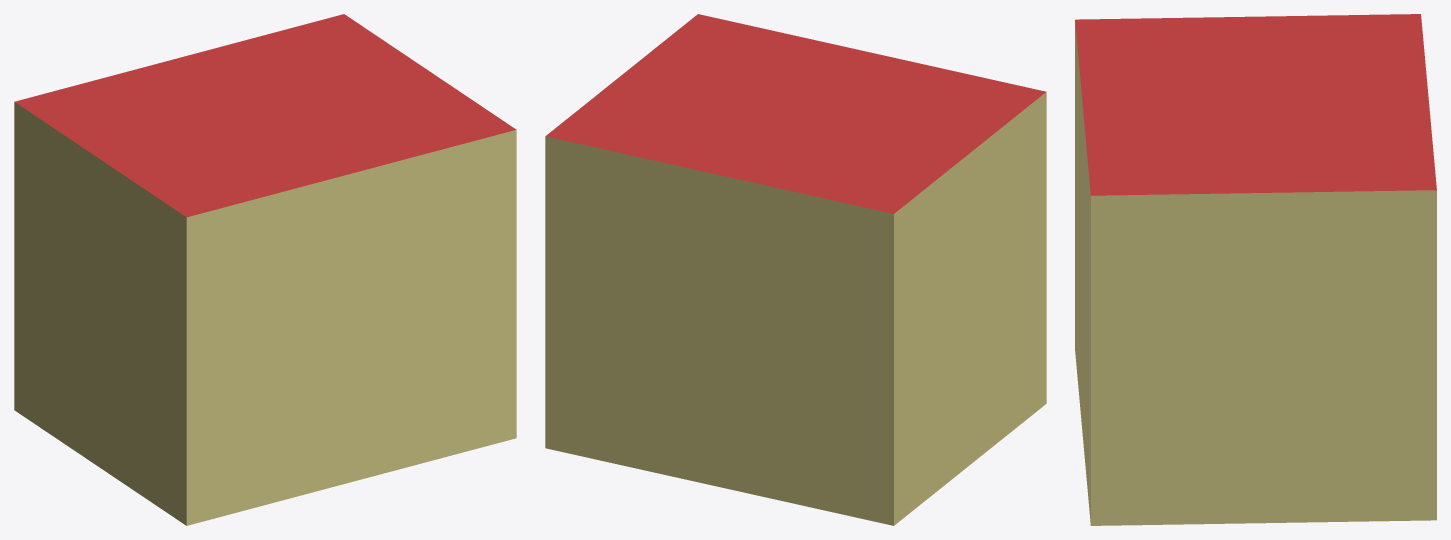
The picture shows the model from 3 angles, left to right: view 1: azimuth 30°, elevation 25°; view 2: azimuth 150°, elevation 25°; view 3: azimuth 270°, elevation 25°; orthographic projection. The views are drawn at different scales.
Size of the model in its own units: 6.14 by 5.17 by 5.2.
